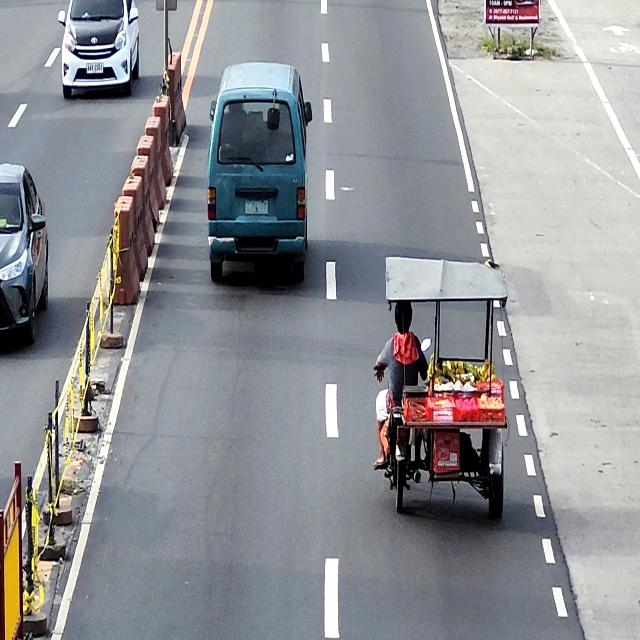Car: (206, 61, 312, 282), (0, 161, 49, 345), (57, 0, 139, 98)
License-Plate: (243, 197, 270, 216), (85, 60, 104, 75)
Tricycle: (378, 254, 508, 519)
